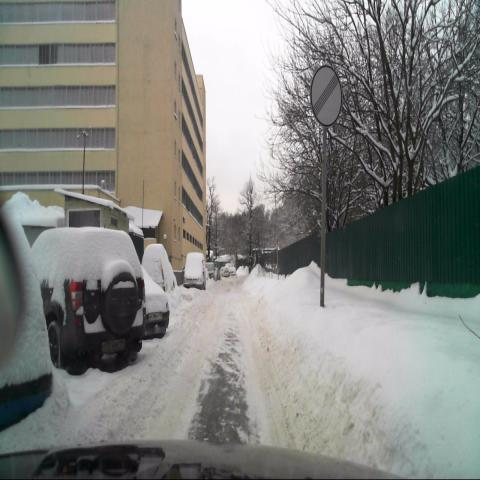3_31: (311, 64, 343, 126)
